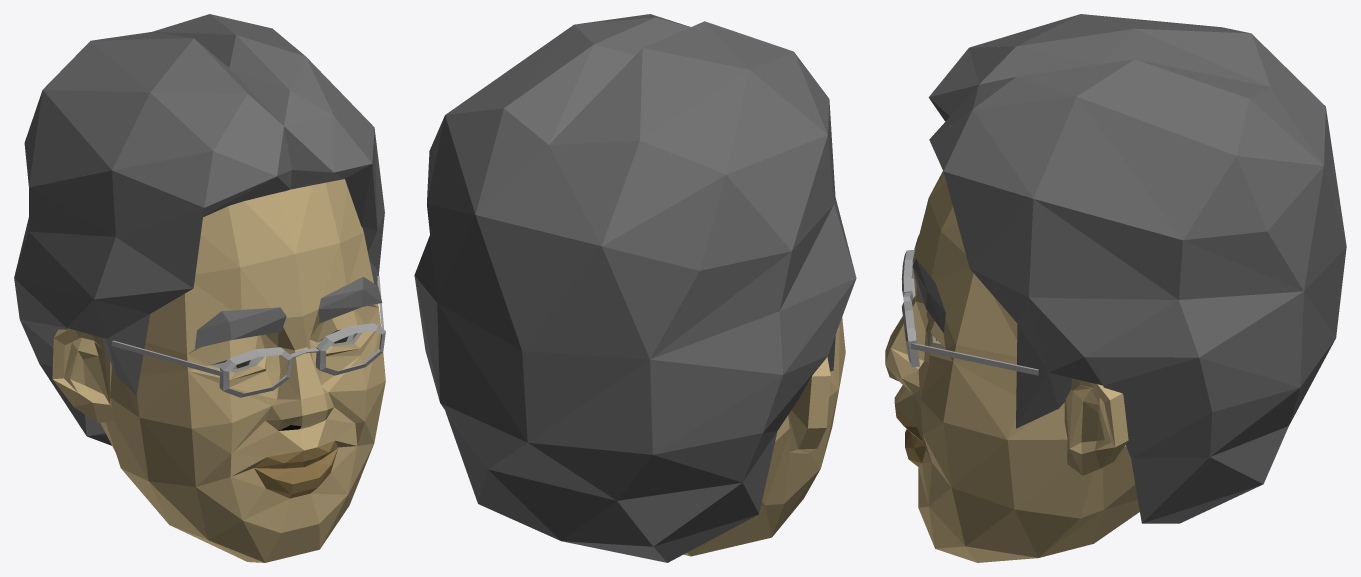
Rendered from kawashima.obj.
3 renders of one model, left to right at view 1: azimuth 30°, elevation 25°; view 2: azimuth 150°, elevation 25°; view 3: azimuth 270°, elevation 25°, orthographic. The views are drawn at different scales.
Parts seen in each view (by area): view 1: polygon6, polygon5, polygon1, polygon4; view 2: polygon6, polygon5; view 3: polygon6, polygon5, polygon1, polygon4.
Part boxes in pixels (bbox=[...]): polygon6: bbox=[14, 14, 384, 445]; polygon5: bbox=[52, 179, 385, 562]; polygon1: bbox=[111, 276, 385, 397]; polygon4: bbox=[254, 440, 338, 498]; polygon6: bbox=[414, 14, 856, 562]; polygon5: bbox=[684, 317, 845, 556]; polygon6: bbox=[912, 14, 1346, 523]; polygon5: bbox=[885, 171, 1139, 562]; polygon1: bbox=[901, 250, 1038, 375]; polygon4: bbox=[895, 405, 925, 466].
Bounding box in the file's own units: 0.969 × 1.35 × 1.1.
11 materials, 11 textured.
